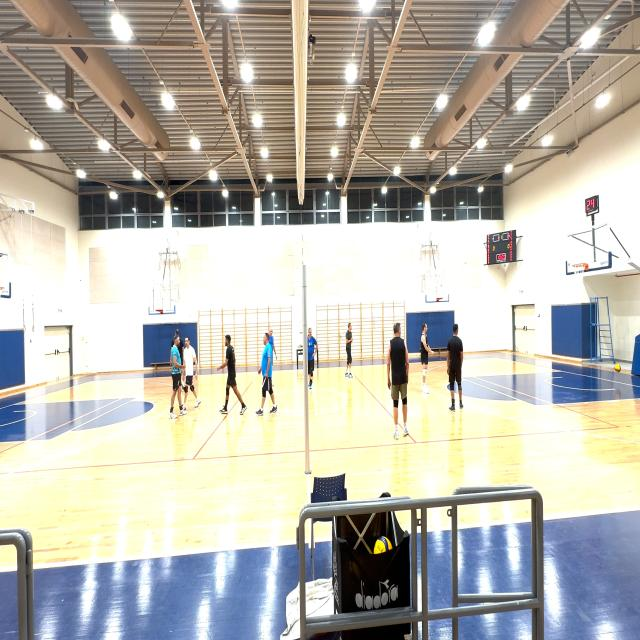volleyball: (373, 535, 392, 555), (614, 363, 620, 372)
